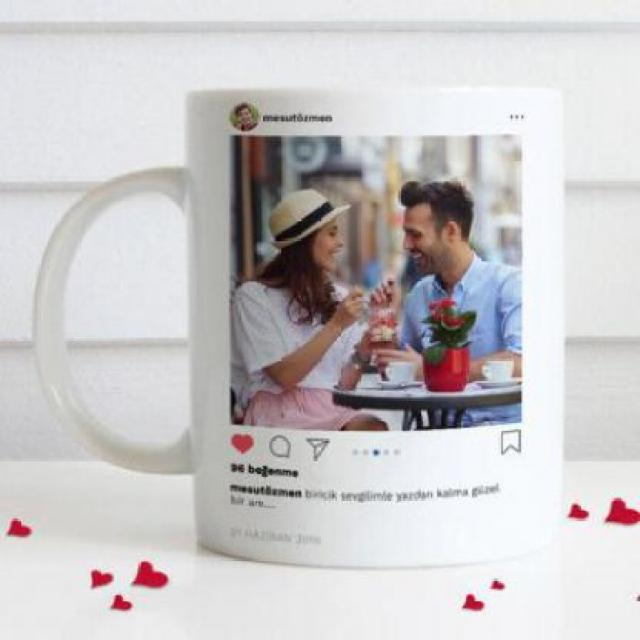taza: (27, 78, 579, 582)
